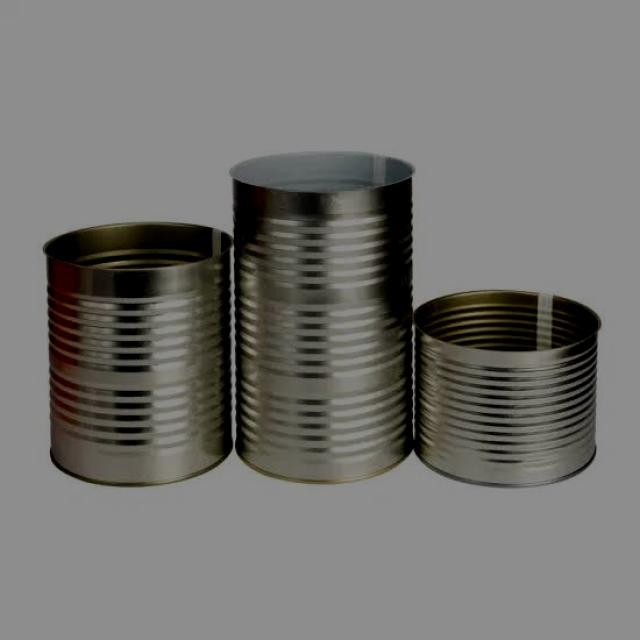metal: (227, 145, 420, 488), (36, 211, 247, 494), (408, 280, 606, 497)
